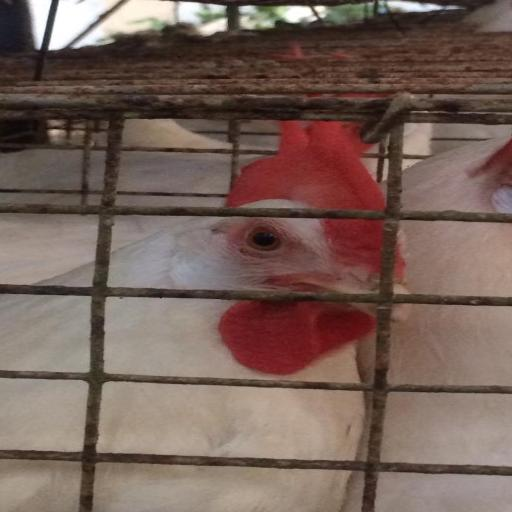healthy: (171, 125, 408, 358)
